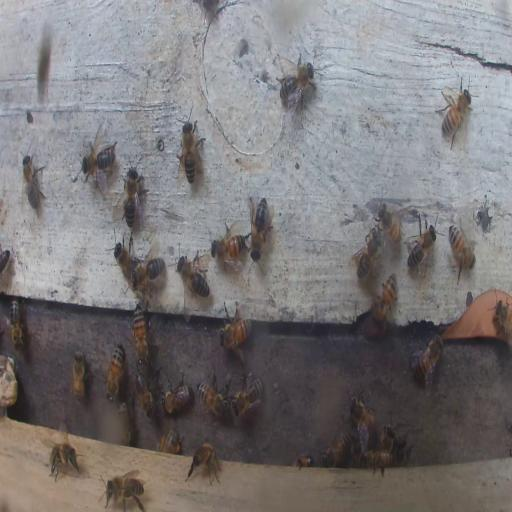bee: (276, 52, 316, 111), (80, 132, 120, 190), (438, 82, 473, 145), (176, 110, 204, 186), (404, 215, 440, 274), (409, 332, 444, 392), (447, 219, 476, 283), (104, 470, 147, 512), (350, 228, 383, 278), (177, 252, 210, 300), (186, 441, 221, 486), (247, 195, 272, 257), (20, 147, 44, 210), (49, 431, 80, 479), (374, 195, 402, 248), (123, 162, 145, 228), (231, 372, 263, 417), (370, 273, 398, 324), (104, 342, 125, 404), (198, 378, 228, 417), (218, 315, 252, 349), (320, 431, 352, 467), (132, 254, 164, 289), (211, 232, 249, 261), (134, 366, 156, 416), (162, 376, 190, 414), (114, 236, 136, 283), (350, 396, 374, 438), (132, 304, 148, 366), (365, 447, 396, 474), (9, 298, 24, 351), (72, 350, 86, 403), (158, 424, 182, 454), (393, 434, 412, 464), (351, 428, 366, 463), (119, 400, 131, 443), (0, 250, 11, 282), (382, 426, 395, 451), (295, 454, 315, 468)
